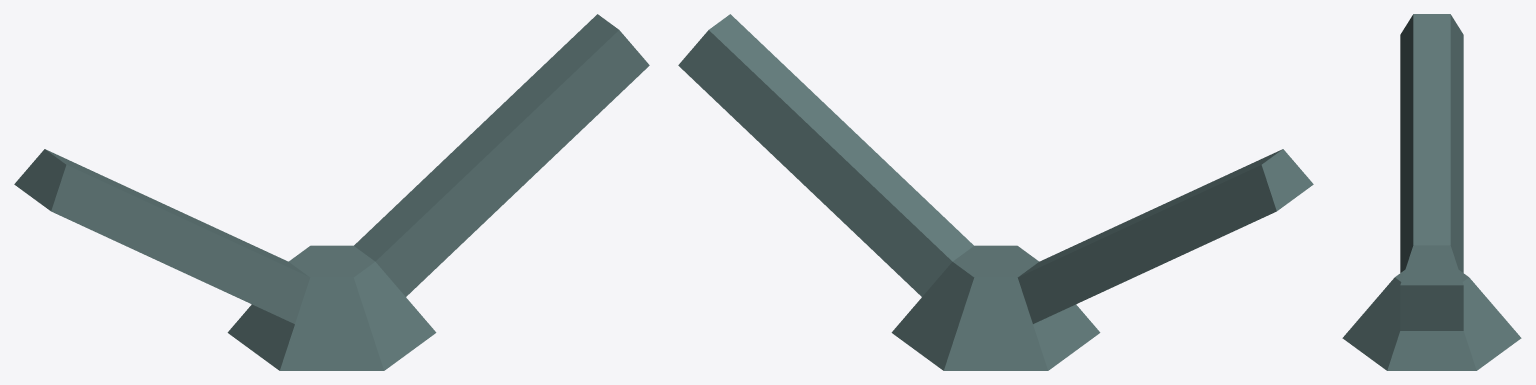
File: televisionAntenna.obj
3 renders of one model, left to right at view 1: azimuth 30°, elevation 25°; view 2: azimuth 150°, elevation 25°; view 3: azimuth 270°, elevation 25°, orthographic. The views are drawn at different scales.
Parts seen in each view (by area): view 1: televisionAntenna; view 2: televisionAntenna; view 3: televisionAntenna.
Part boxes in pixels (x1,y1,x2,y2): televisionAntenna: [14, 14, 649, 370]; televisionAntenna: [678, 14, 1313, 370]; televisionAntenna: [1342, 14, 1521, 370].
Size of the model in its own units: 0.2645 by 0.1027 by 0.08.
